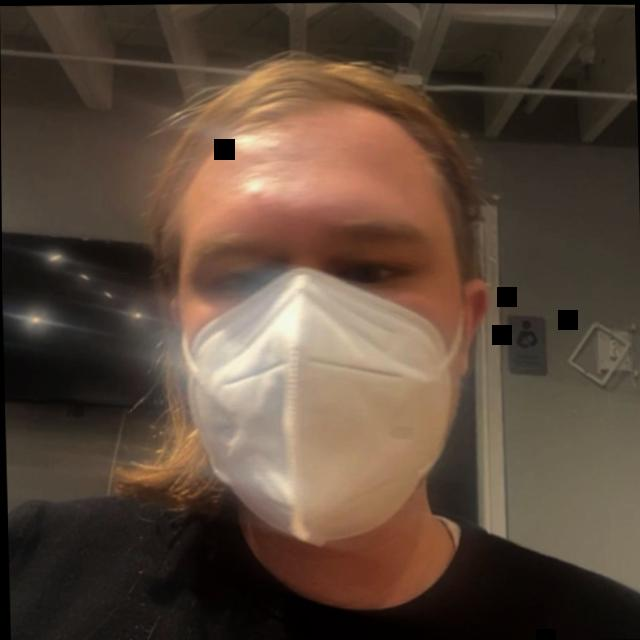Mask: (102, 52, 533, 620)
